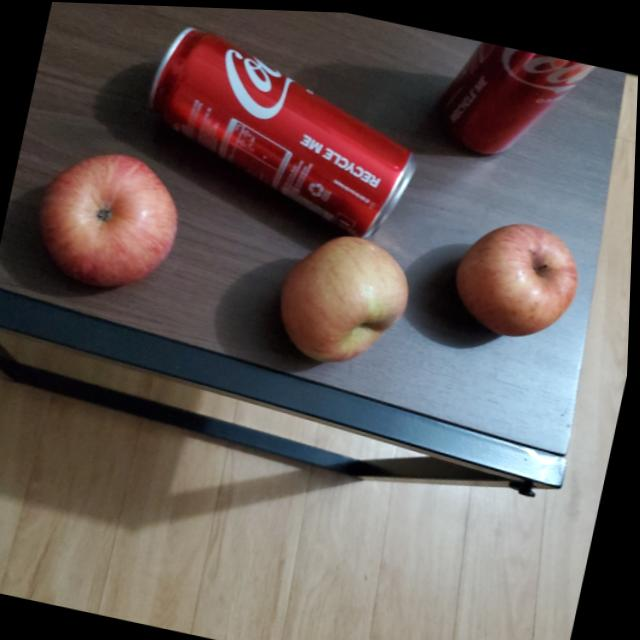apple: (24, 138, 187, 297), (272, 221, 421, 373), (447, 208, 592, 344)
coke: (134, 17, 438, 240), (437, 32, 630, 173)
